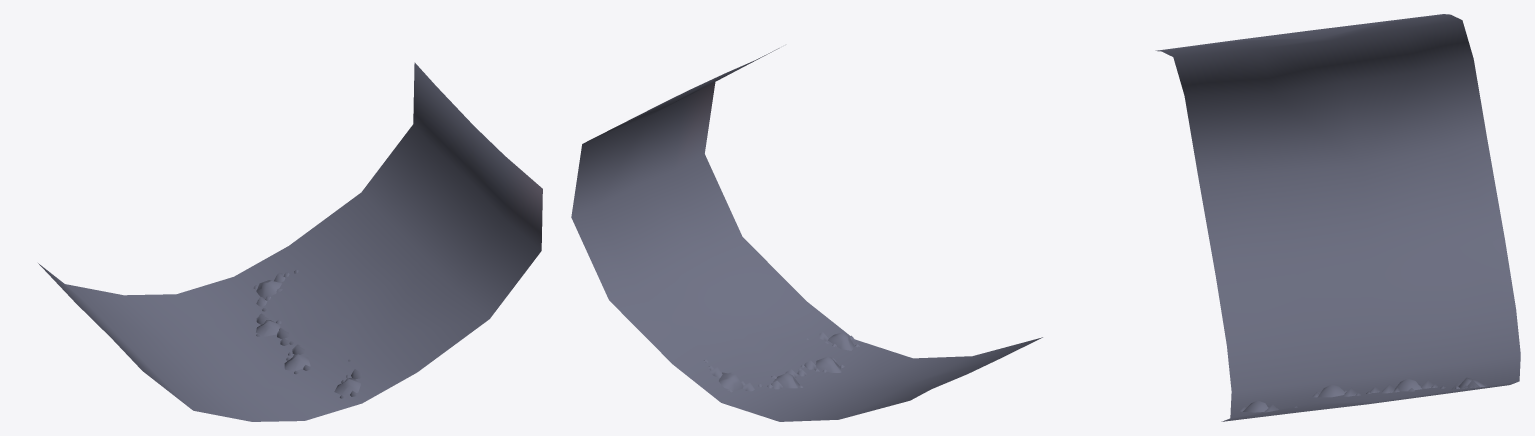
File: Arctic_Luge_Tunnel_Right_15_Mid_B.glb
The picture shows the model from 3 angles, left to right: view 1: azimuth 30°, elevation 25°; view 2: azimuth 150°, elevation 25°; view 3: azimuth 270°, elevation 25°; orthographic projection. The views are drawn at different scales.
Visible parts, largest first — view 1: Arctic_Luge_Tunnel_Right_15_Mid_B; view 2: Arctic_Luge_Tunnel_Right_15_Mid_B; view 3: Arctic_Luge_Tunnel_Right_15_Mid_B.
Boxes of the visible parts, x1=… form: Arctic_Luge_Tunnel_Right_15_Mid_B: x1=38, y1=62, x2=542, y2=421; Arctic_Luge_Tunnel_Right_15_Mid_B: x1=571, y1=48, x2=1042, y2=421; Arctic_Luge_Tunnel_Right_15_Mid_B: x1=1155, y1=14, x2=1520, y2=421.
Size of what is drawn, in the model's own units: 4.44 by 3.49 by 3.13.
